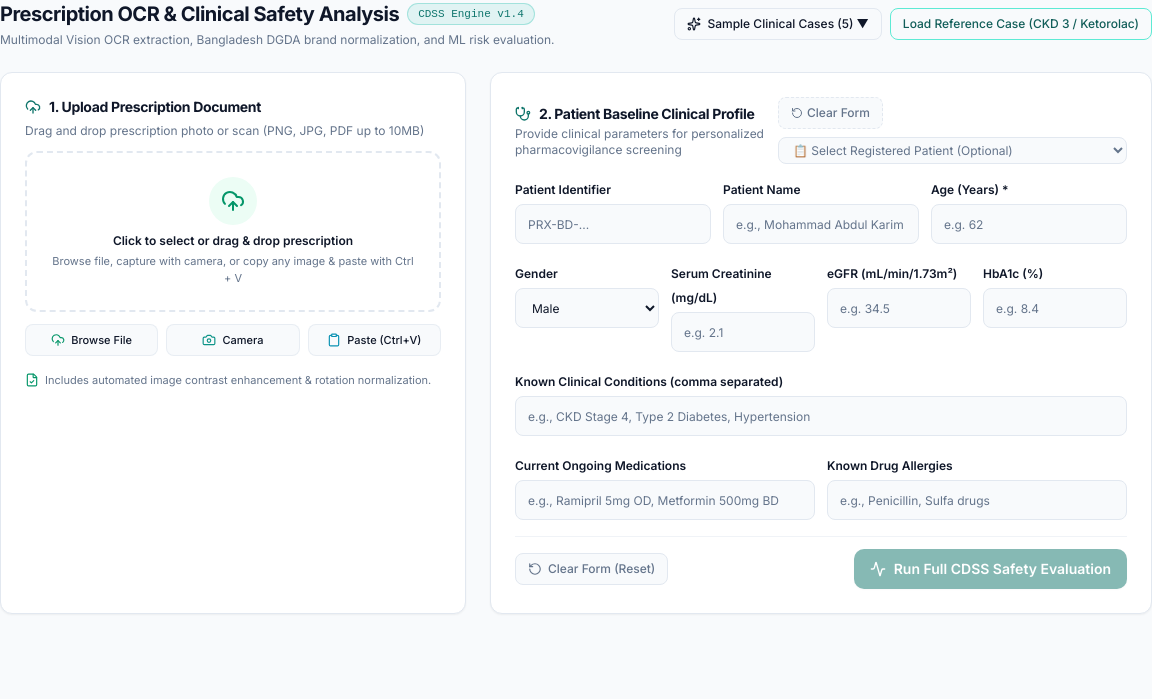
PrescriptionAnalysisPage › executes 1-Click Instant Run for Golden Scenario 2 (Triple Whammy)
# Open sample cases
Click the button "Sample Clinical Cases (5) ▼".
click(778, 24)  # box 674,8 -> 882,40
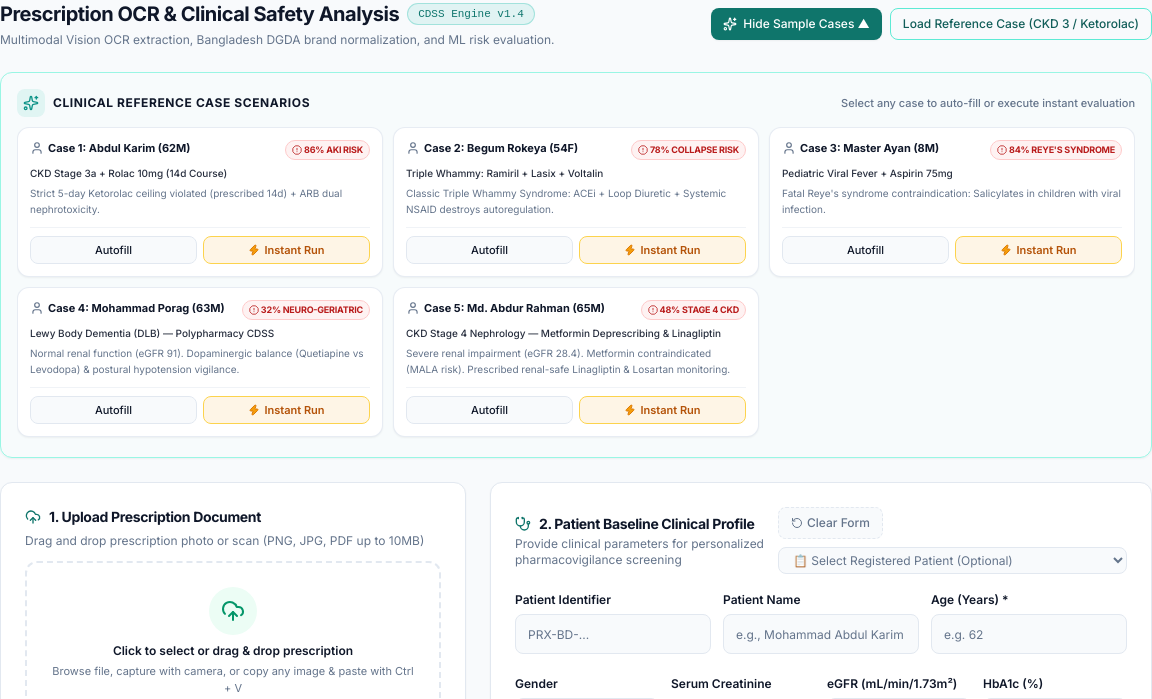
Click the button with aria-label "Instant Run Case 2: Begum Rokeya".
click(662, 250)  # box 579,236 -> 746,264
(page scrolled)
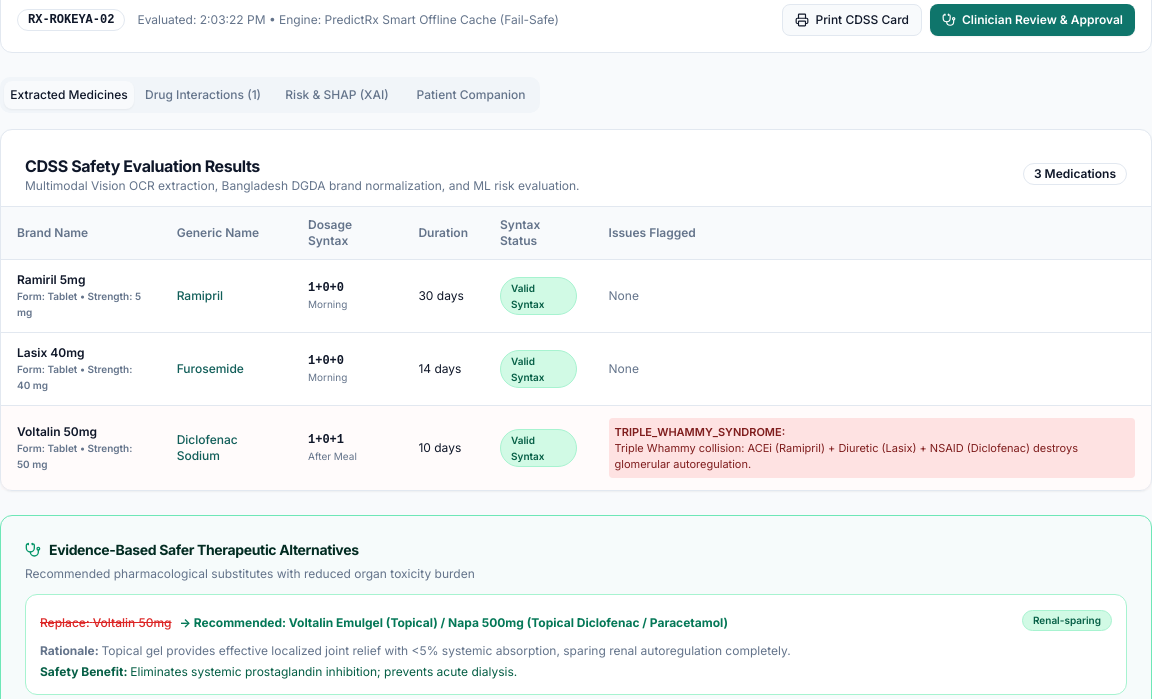
Result: the text "Ramiril 5mg Form: Tablet • Strength: 5 mg" is shown at 1,259 -> 161,332
Result: the text "Lasix 40mg Form: Tablet • Strength: 40 mg" is shown at 1,332 -> 161,405
Result: the text "Voltalin 50mg Form: Tablet • Strength: 50 mg" is shown at 1,405 -> 161,490
